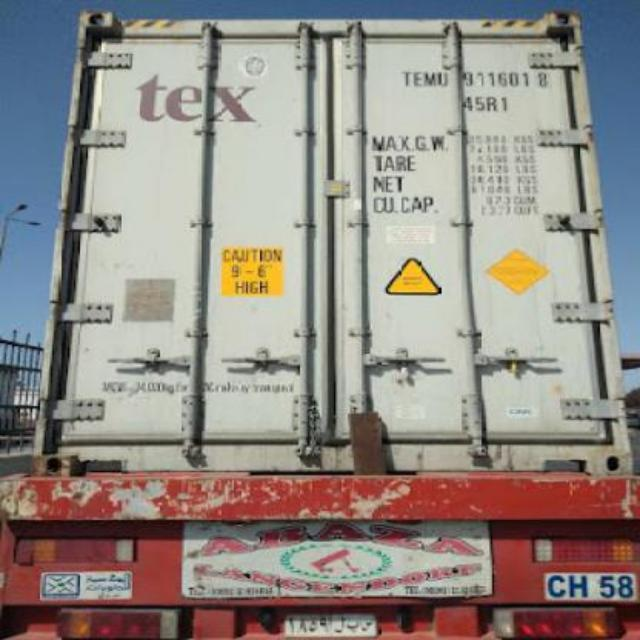0: (506, 72, 520, 90)
1: (476, 68, 486, 90), (520, 70, 532, 86), (488, 70, 496, 86)
6: (496, 68, 509, 90)
8: (538, 72, 550, 88)
9: (464, 69, 476, 87)
E: (412, 70, 424, 88)
M: (424, 70, 436, 86)
T: (400, 69, 412, 87)
U: (436, 70, 448, 88)
